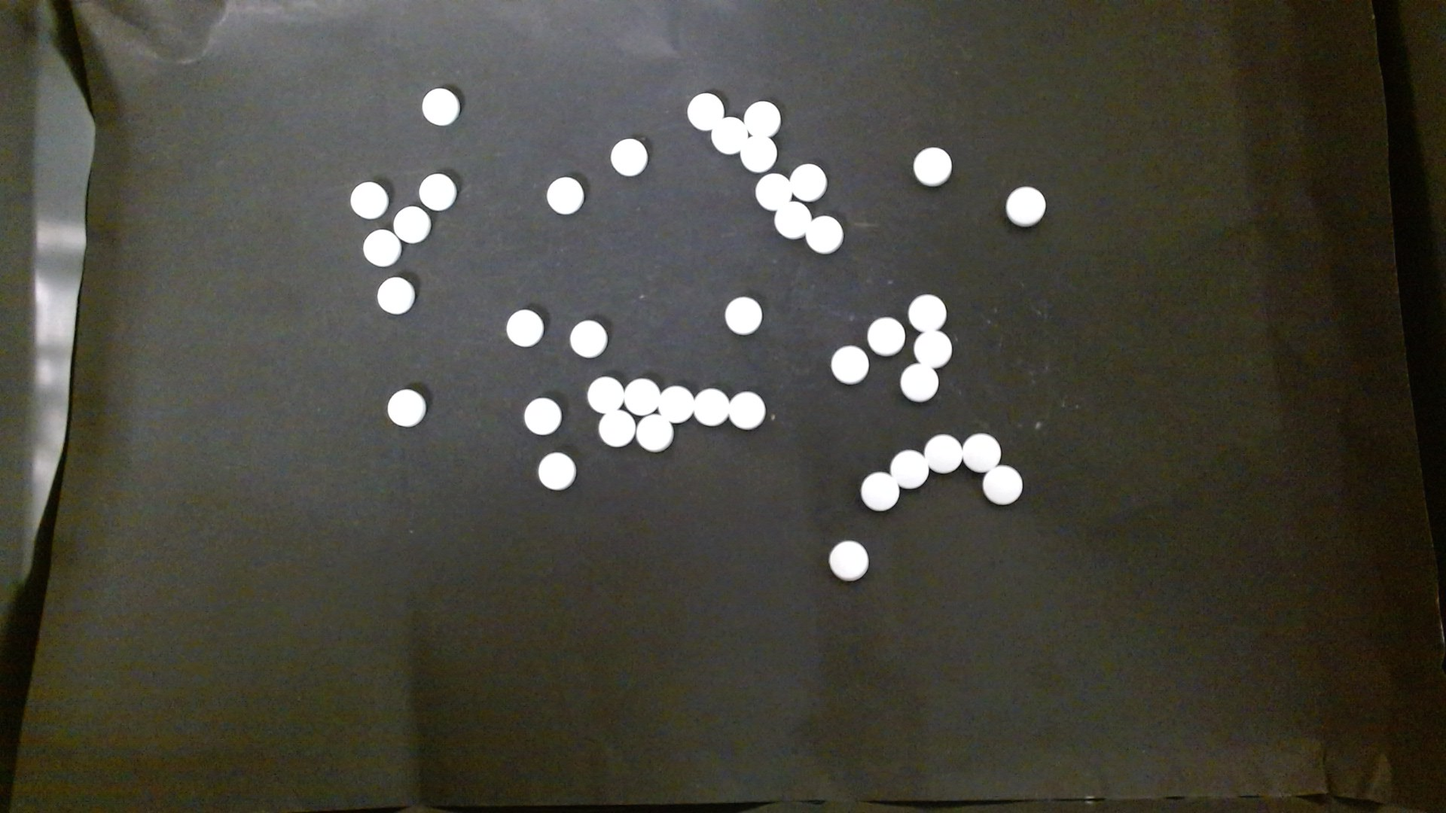Circle: (1005, 185, 1047, 227), (982, 465, 1023, 506), (828, 540, 868, 581), (860, 471, 899, 512), (387, 387, 426, 428), (962, 432, 1000, 473), (899, 364, 938, 403), (569, 318, 608, 357), (377, 276, 416, 315), (913, 147, 952, 186), (421, 87, 460, 126), (891, 449, 929, 489), (914, 329, 953, 367), (924, 434, 962, 473), (867, 316, 905, 355), (419, 172, 457, 211), (350, 180, 389, 218), (909, 293, 947, 331), (537, 452, 575, 490), (362, 229, 401, 266), (740, 132, 776, 172), (755, 172, 792, 210), (789, 163, 827, 200), (686, 91, 723, 129), (636, 414, 673, 452), (728, 391, 765, 429), (831, 346, 868, 384), (523, 397, 561, 434), (506, 308, 543, 346), (610, 138, 648, 175), (546, 176, 583, 214), (587, 375, 623, 414), (712, 117, 749, 154), (598, 410, 635, 447), (807, 215, 843, 253), (725, 296, 761, 334), (743, 100, 779, 137), (394, 206, 430, 243), (775, 200, 811, 237), (693, 387, 728, 425), (624, 378, 659, 415), (660, 385, 694, 422)
